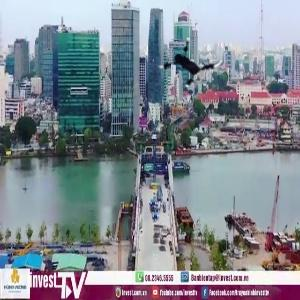drone: (152, 21, 229, 98)
